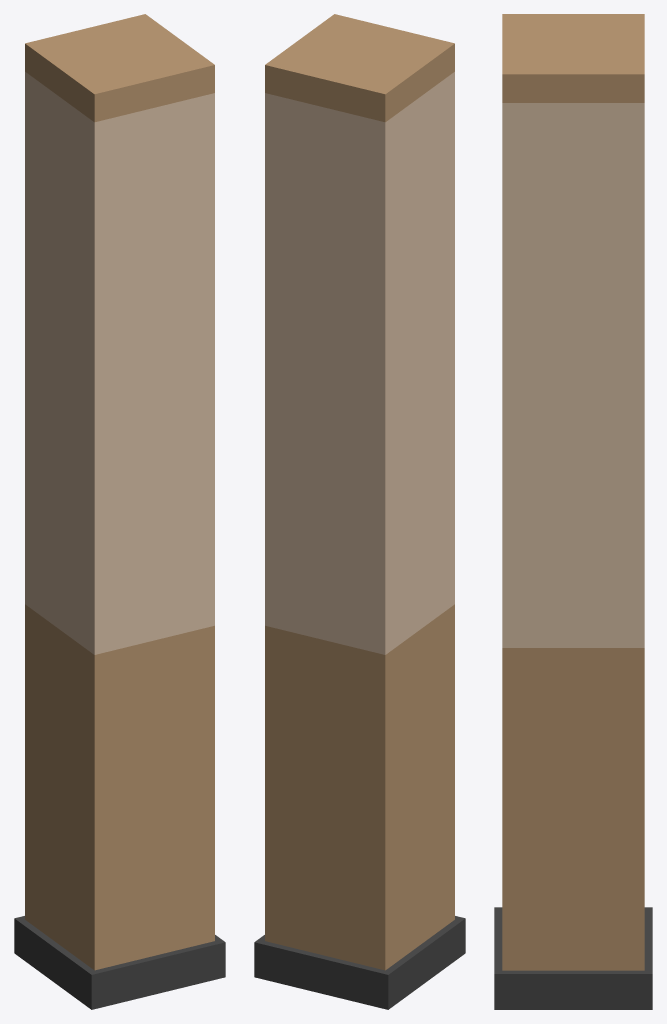
Rendered from column_02.glb.
3 renders of one model, left to right at view 1: azimuth 30°, elevation 25°; view 2: azimuth 150°, elevation 25°; view 3: azimuth 270°, elevation 25°, orthographic. The views are drawn at different scales.
Visible parts, largest first — view 1: Untitled; view 2: Untitled; view 3: Untitled.
Boxes of the visible parts, x1=… form: Untitled: x1=14, y1=14, x2=225, y2=1009; Untitled: x1=254, y1=14, x2=465, y2=1009; Untitled: x1=494, y1=14, x2=652, y2=1009.
Size of the model in its own units: 0.6 by 3.9 by 0.6.
Materials: 1 (1 with a texture image).
